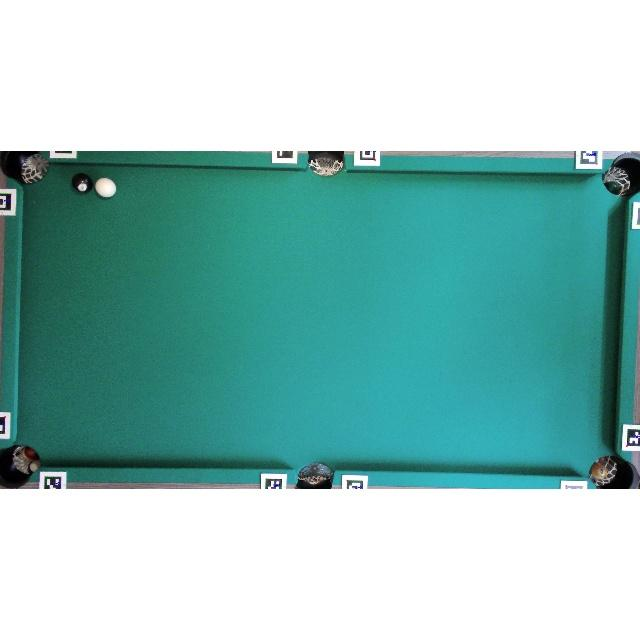cue ball: (95, 178, 116, 198)
other: (71, 172, 93, 194)
